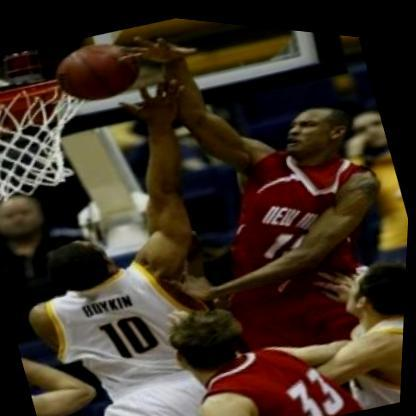basketball: (45, 23, 152, 111)
